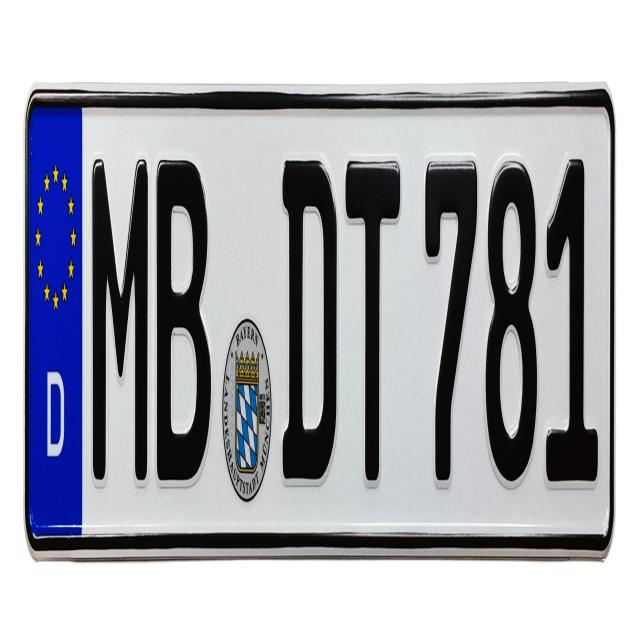Allemagne: (26, 102, 84, 534)
EU: (28, 110, 616, 548)
